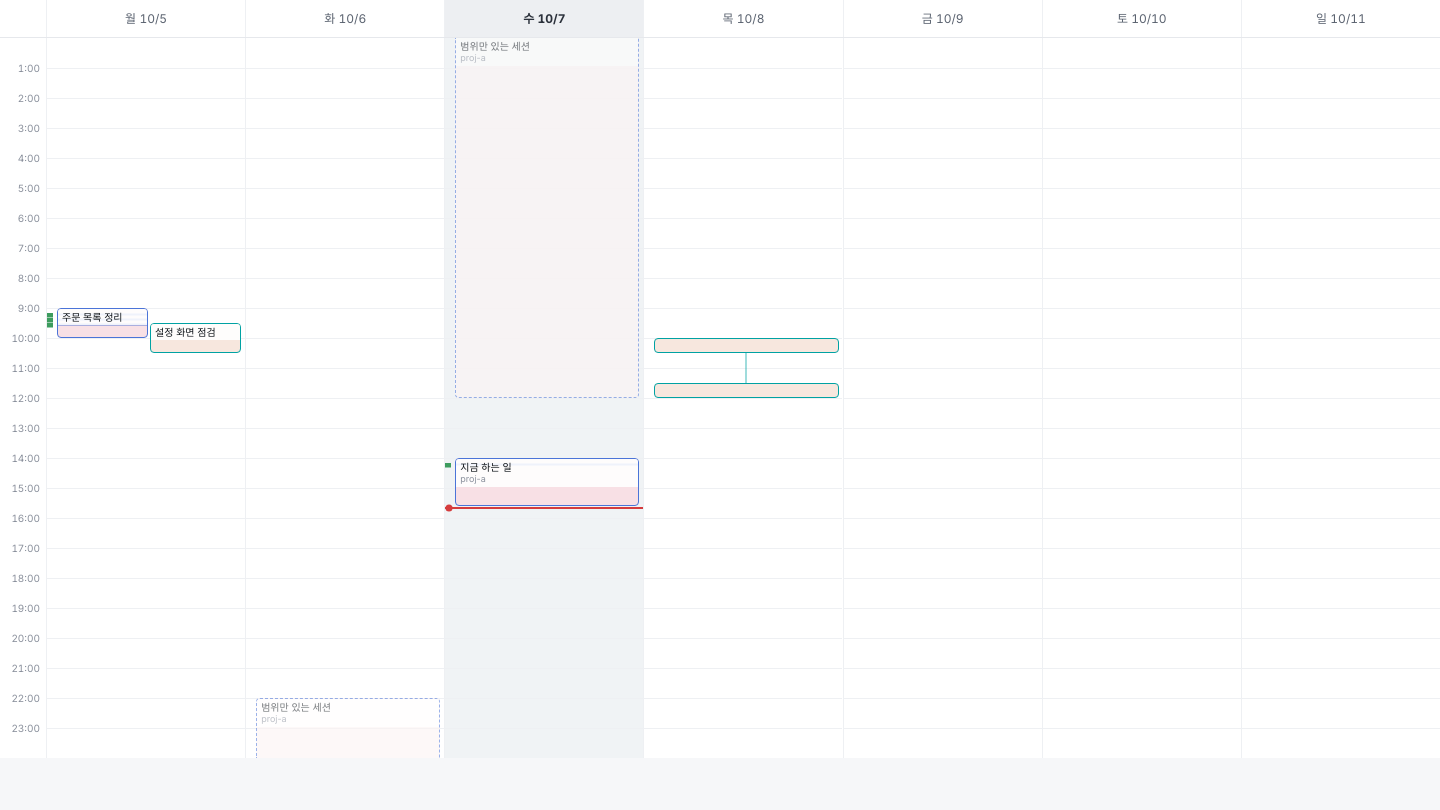
Test: 호버 (C14, C16) › 범위만 있는 흐린 띠: 조각과 입력 시각을 알 수 없다는 안내
Hover over the 2nd button "범위만 있는 세션 proj-a" at [348, 728], box top-left (256, 698), bottom-right (440, 758)
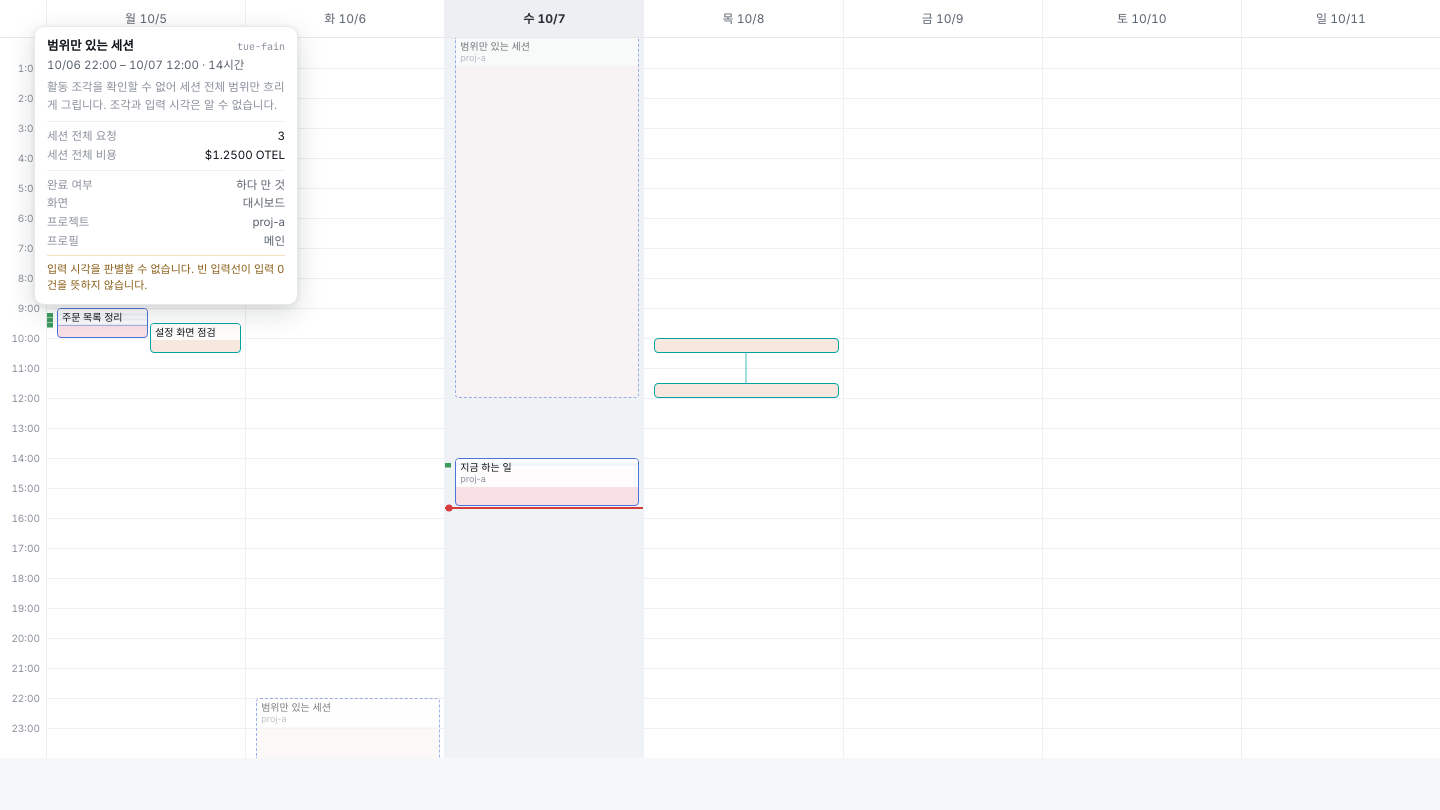
Expected: the tooltip shows "범위만 흐리게 그립니다", top-left (47, 80), bottom-right (284, 112)
